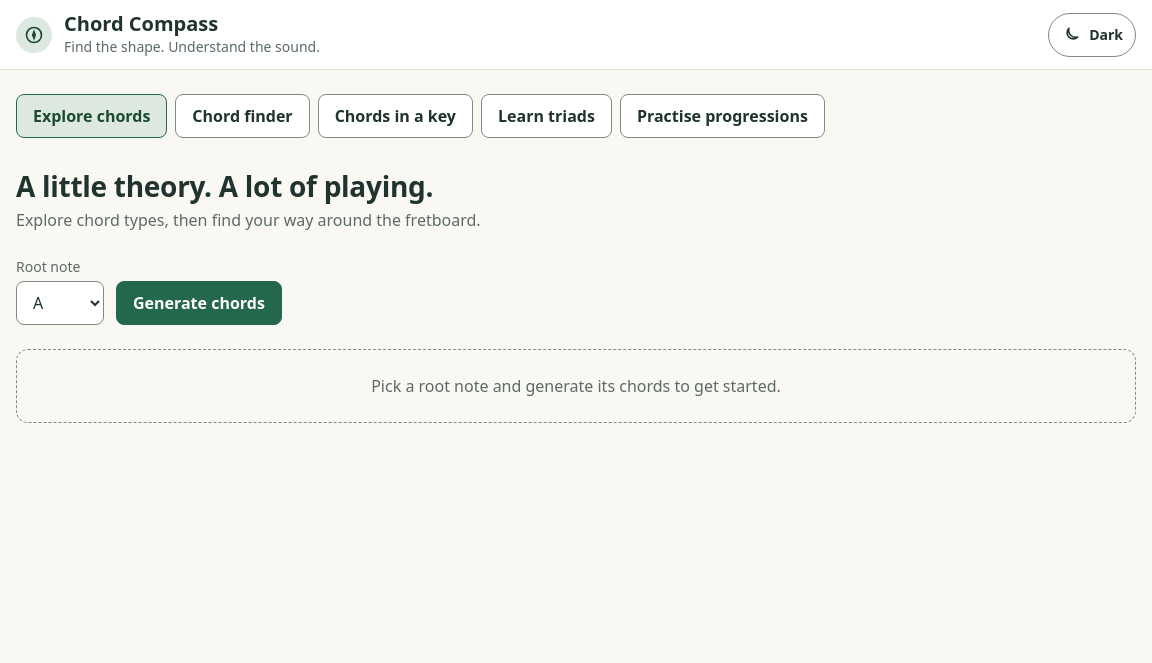
Test: explore chords › shows the major scale reference and updates it with the chord type and root
Step 1. Select "A" in the dropdown labelled "Root note" → (60, 303), box [16,281,104,325]
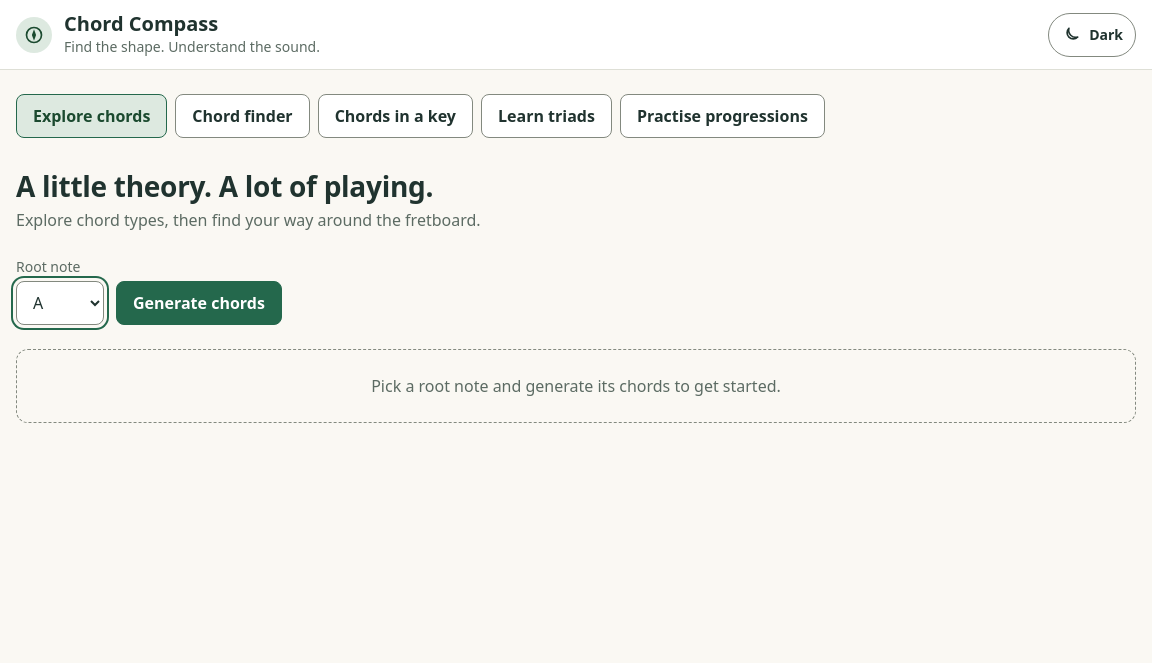
Step 2. Click the button "Generate chords" → (199, 303), box [116,281,282,325]
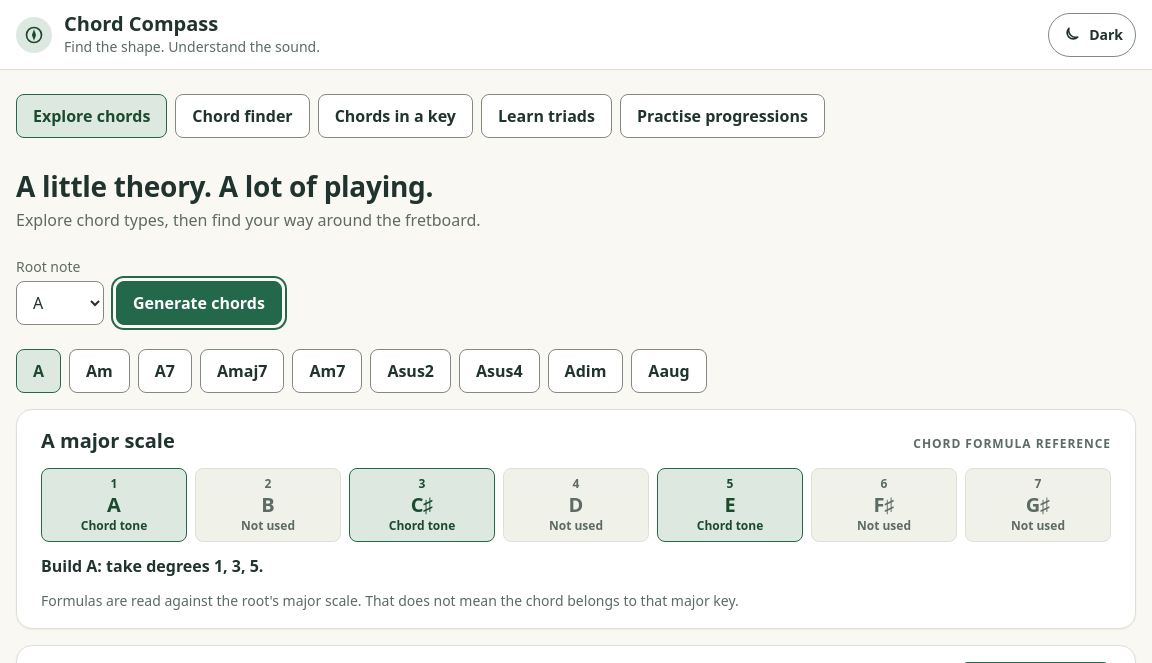
Result: the heading "A major scale" is shown at [41,426,175,456]
Result: the text "Build A: take degrees 1, 3, 5." is shown at [41,555,263,577]
Step 3. Click the button with aria-label "Am7, A minor seventh" → (327, 371), box [292,349,362,393]
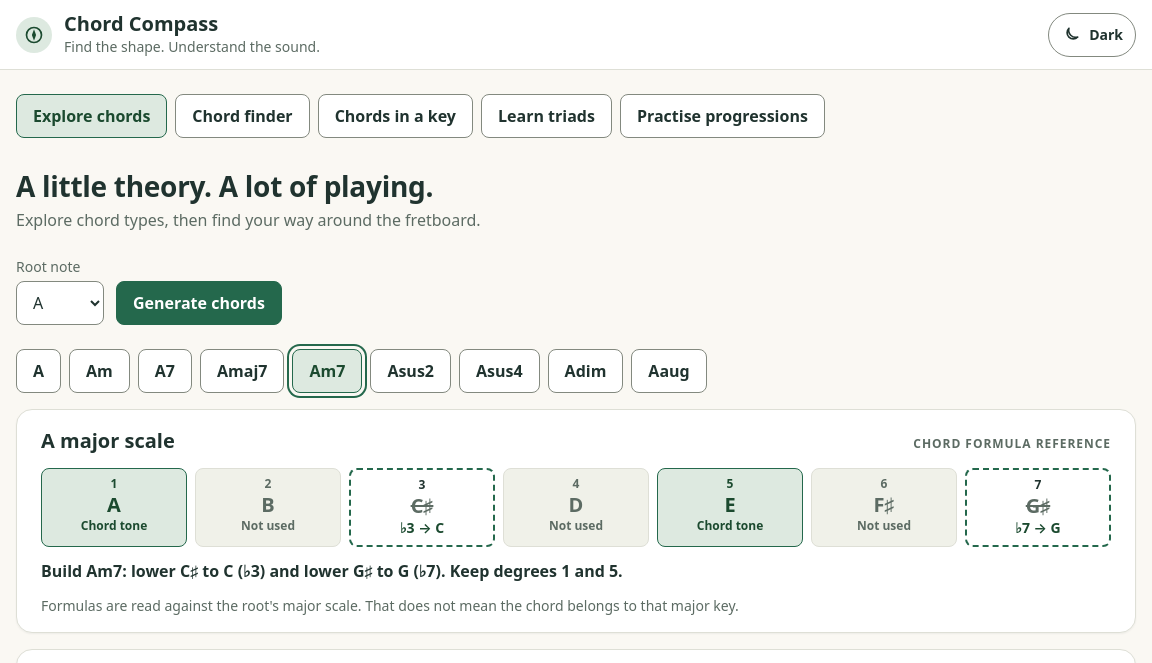
Result: the text "Build Am7: lower C♯ to C (♭3) and lower G♯ to G (♭7). Keep degrees 1 and 5." is shown at [41,560,623,582]
Step 4. Click the button with aria-label "Aaug, A augmented" → (669, 371), box [631,349,707,393]
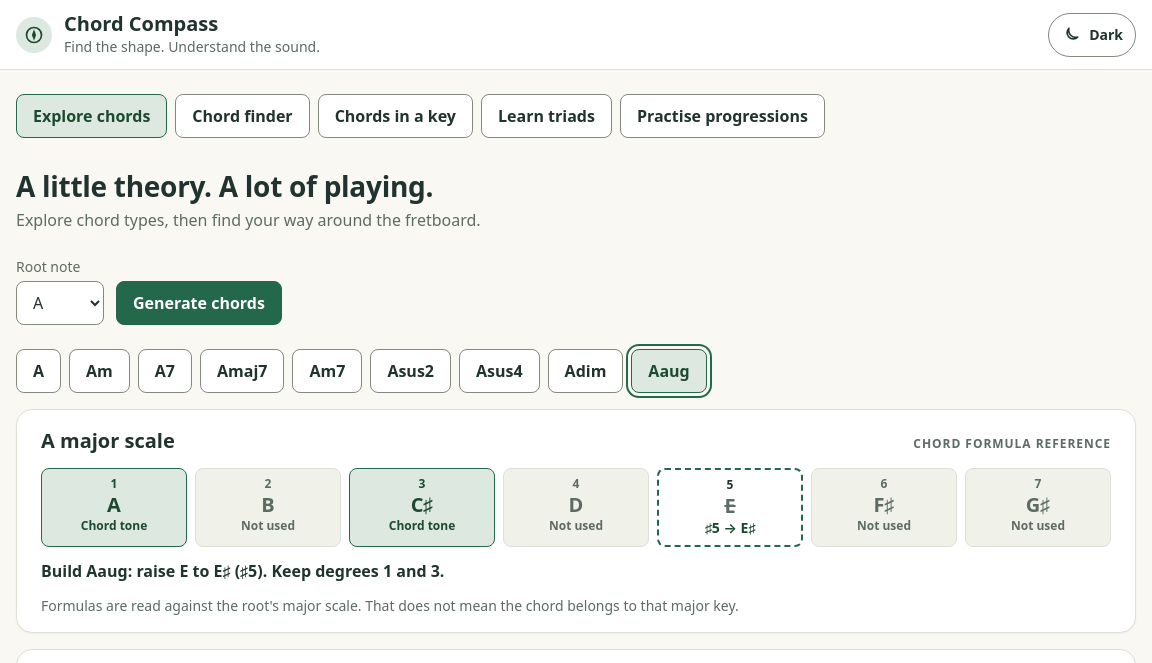
Step 5. Select "C" in the dropdown labelled "Root note" → (60, 303), box [16,281,104,325]
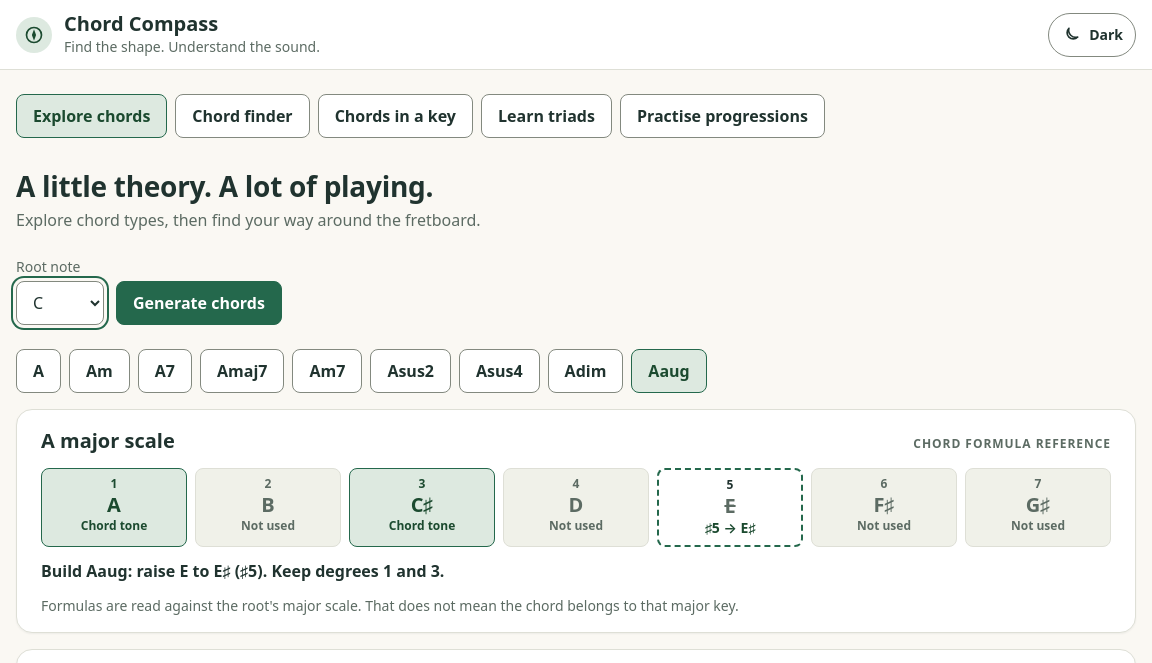
Step 6. Click the button "Generate chords" → (199, 303), box [116,281,282,325]
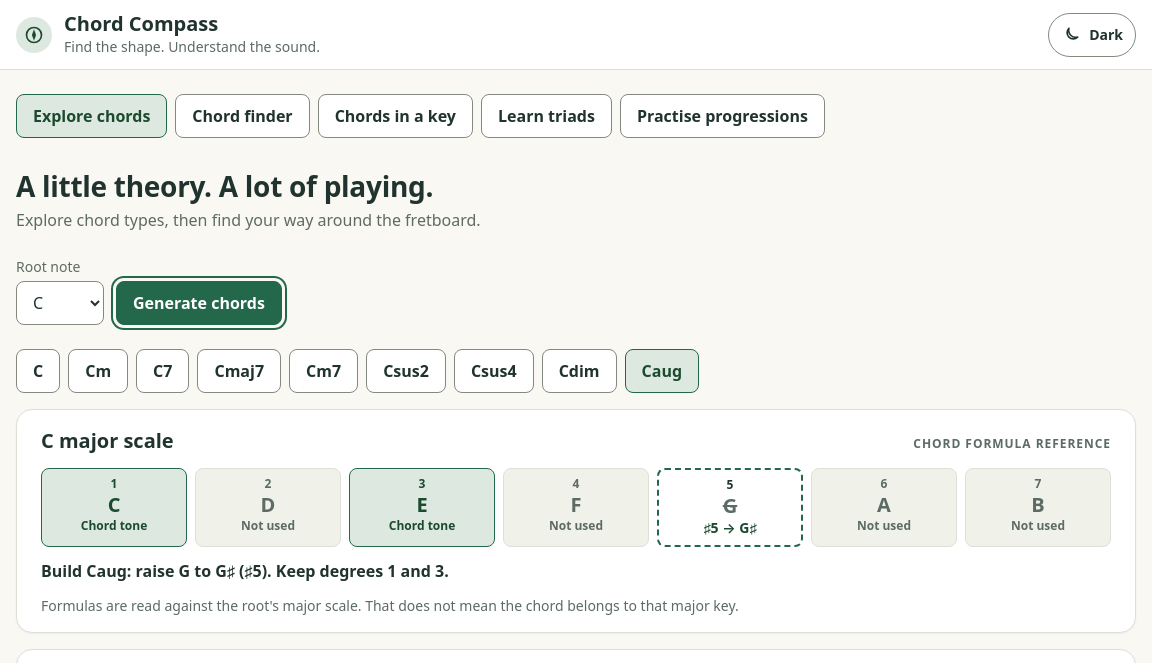
Result: the heading "C major scale" is shown at [41,426,174,456]
